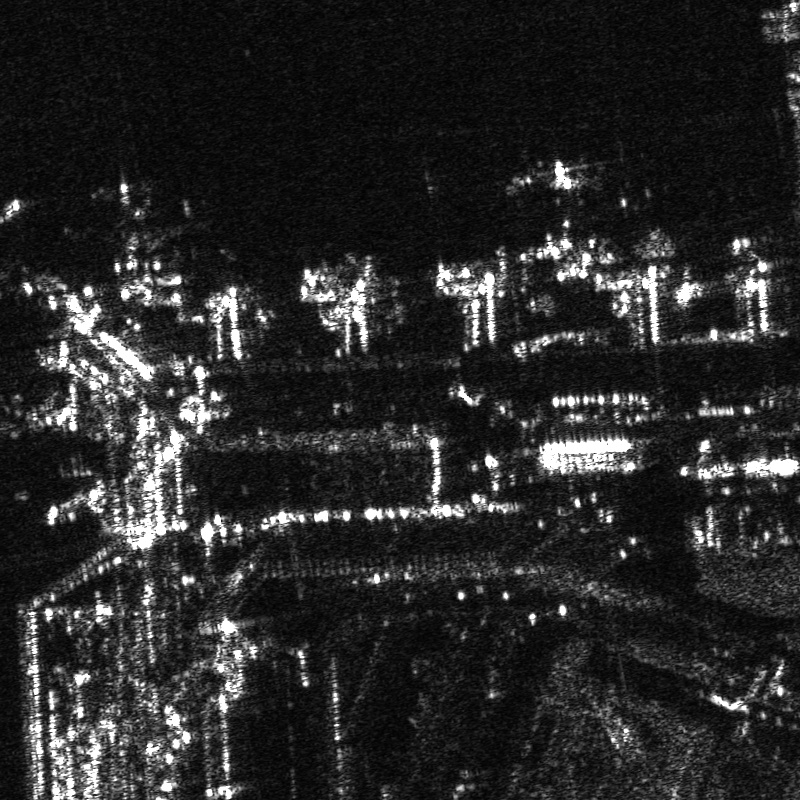Boeing787: (513, 145, 596, 210)
other: (93, 171, 181, 308)
